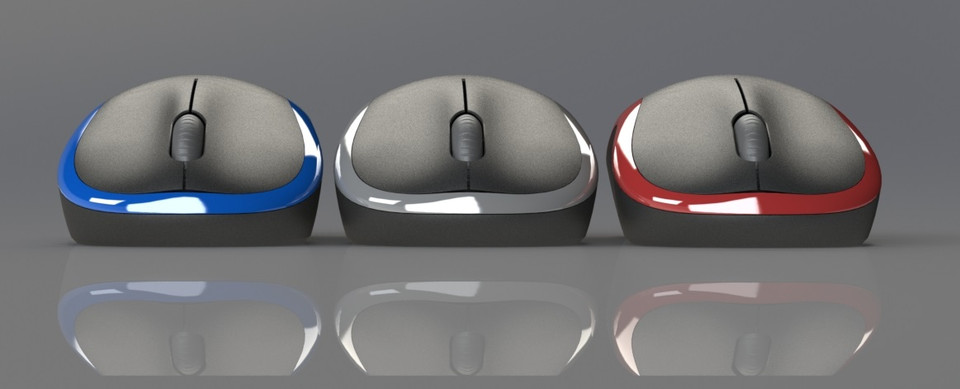logitech-mouse-m185: (55, 72, 326, 257), (605, 70, 883, 246), (330, 74, 602, 253)
